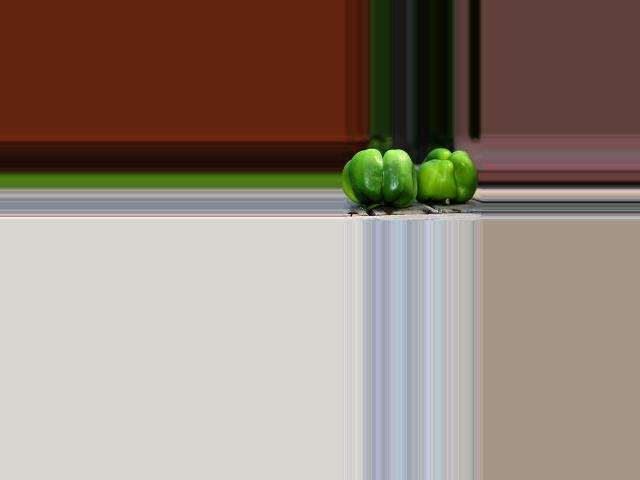bell_pepper: (415, 145, 480, 208)
